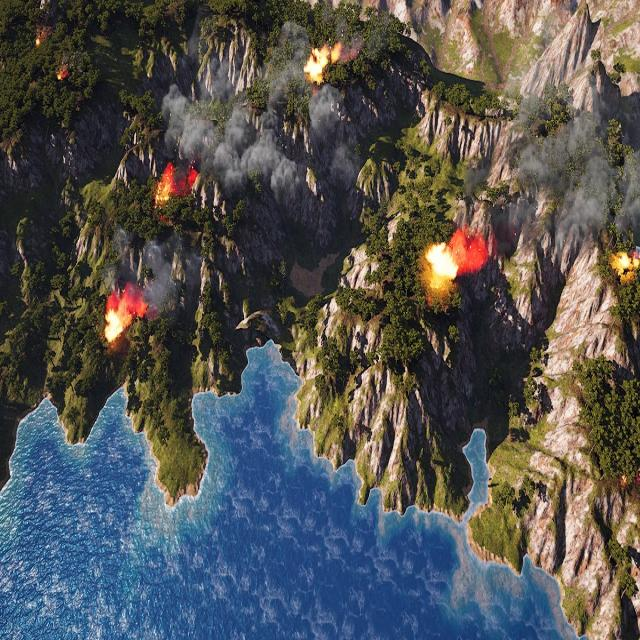fire: (426, 229, 489, 289), (151, 162, 197, 206), (104, 298, 146, 345), (302, 40, 345, 84), (33, 28, 47, 50), (57, 66, 72, 82)
smoke: (159, 26, 347, 190), (463, 88, 640, 247), (126, 242, 176, 310)
